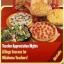pizza: (32, 22, 57, 41)
